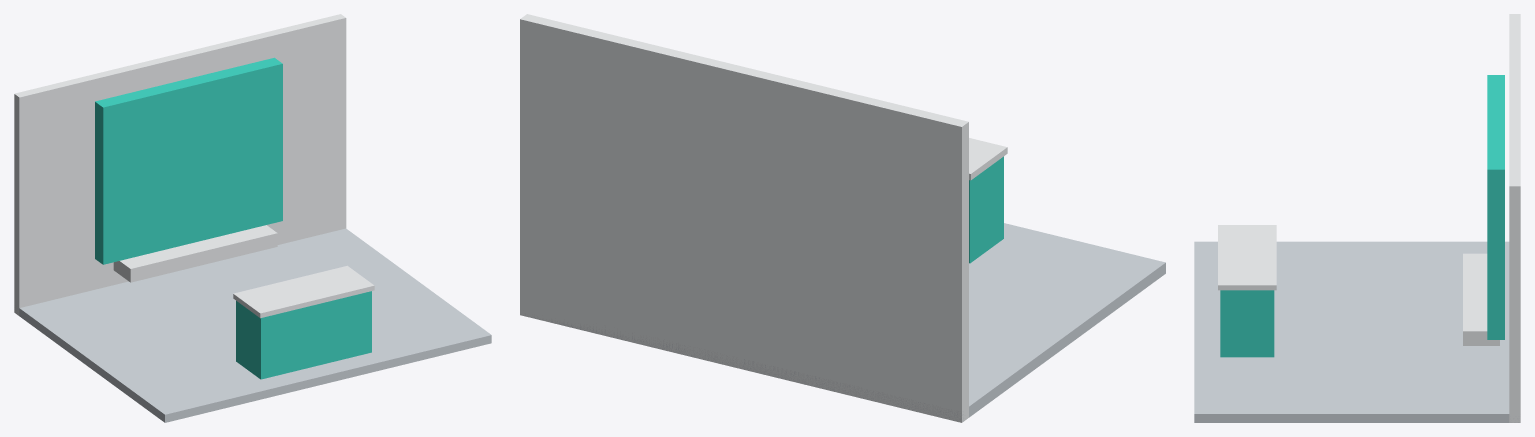
3 views of the same model, side by side, from view 1: azimuth 30°, elevation 25°; view 2: azimuth 150°, elevation 25°; view 3: azimuth 270°, elevation 25° (orthographic). The views are drawn at different scales.
Parts seen in each view (by area): view 1: Exhibition Booth Concept; view 2: Exhibition Booth Concept; view 3: Exhibition Booth Concept.
Part boxes in pixels (<box>): Exhibition Booth Concept: <box>14,14,491,422</box>; Exhibition Booth Concept: <box>520,14,1165,422</box>; Exhibition Booth Concept: <box>1194,14,1520,422</box>.
Size of the model in its own units: 5 by 3.2 by 4.
